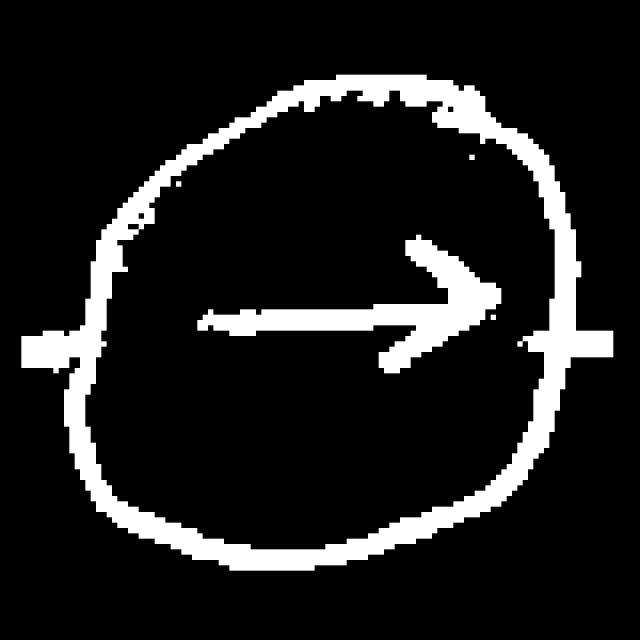current_source: (56, 50, 585, 583)
